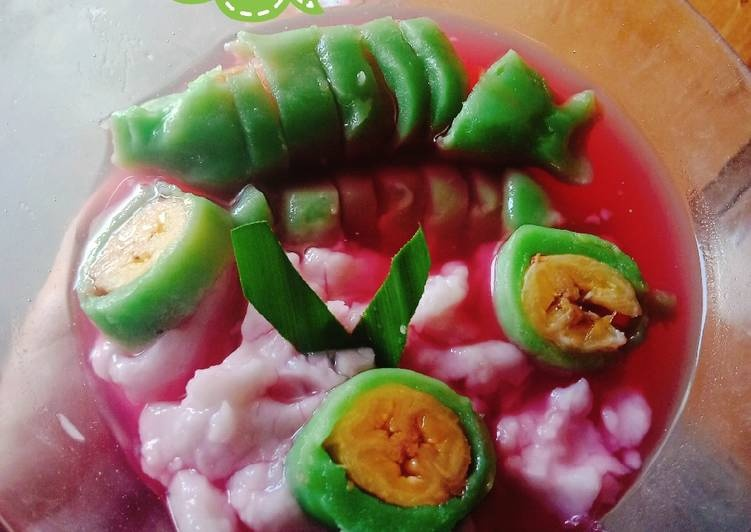pisang_ijo: (295, 374, 491, 527)
